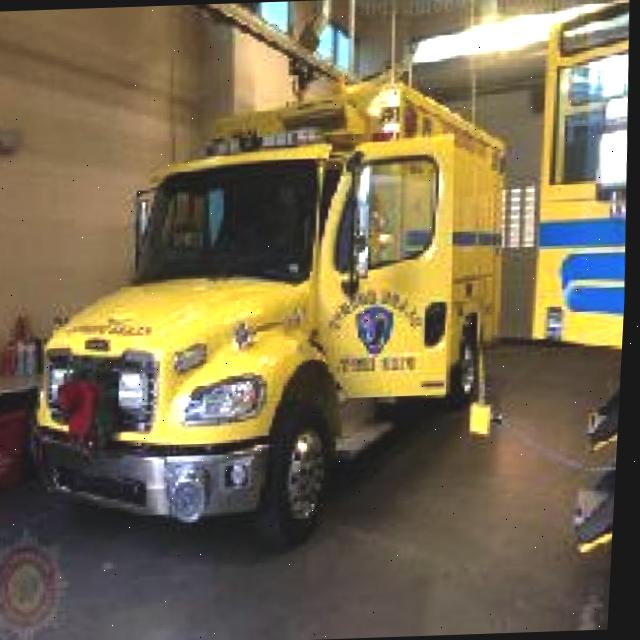emergency: (13, 62, 531, 560)
